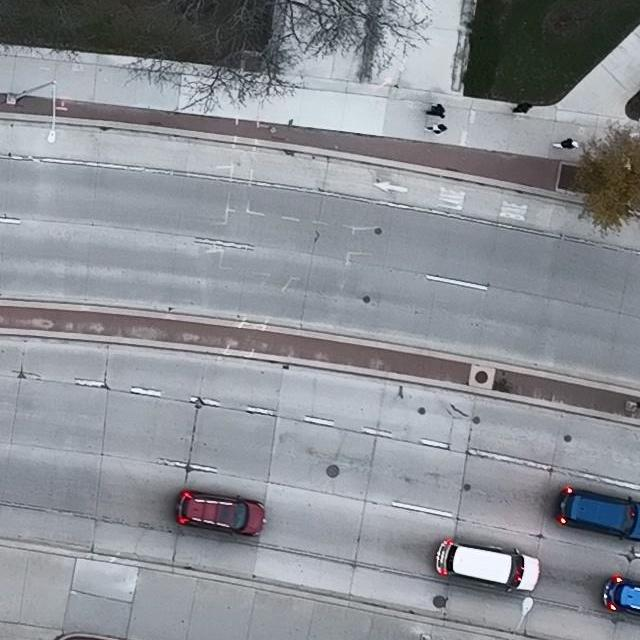car: (434, 539, 541, 592), (554, 486, 640, 541), (174, 489, 266, 538), (602, 574, 640, 615)
